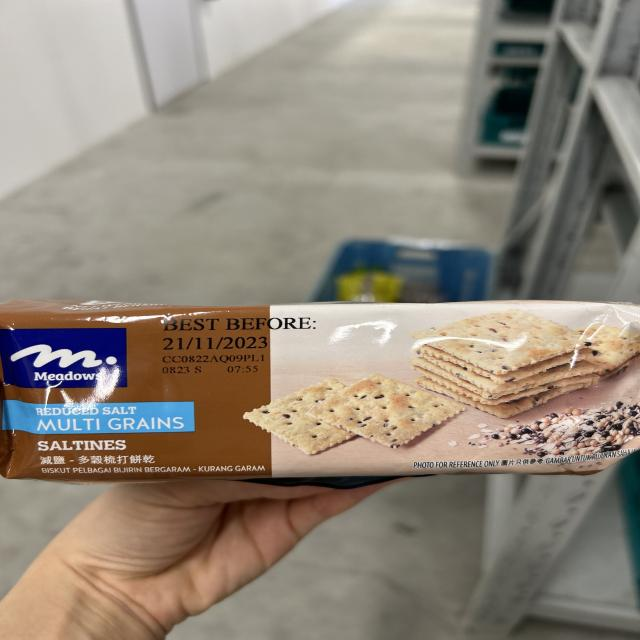object_name: (12, 311, 637, 465)
